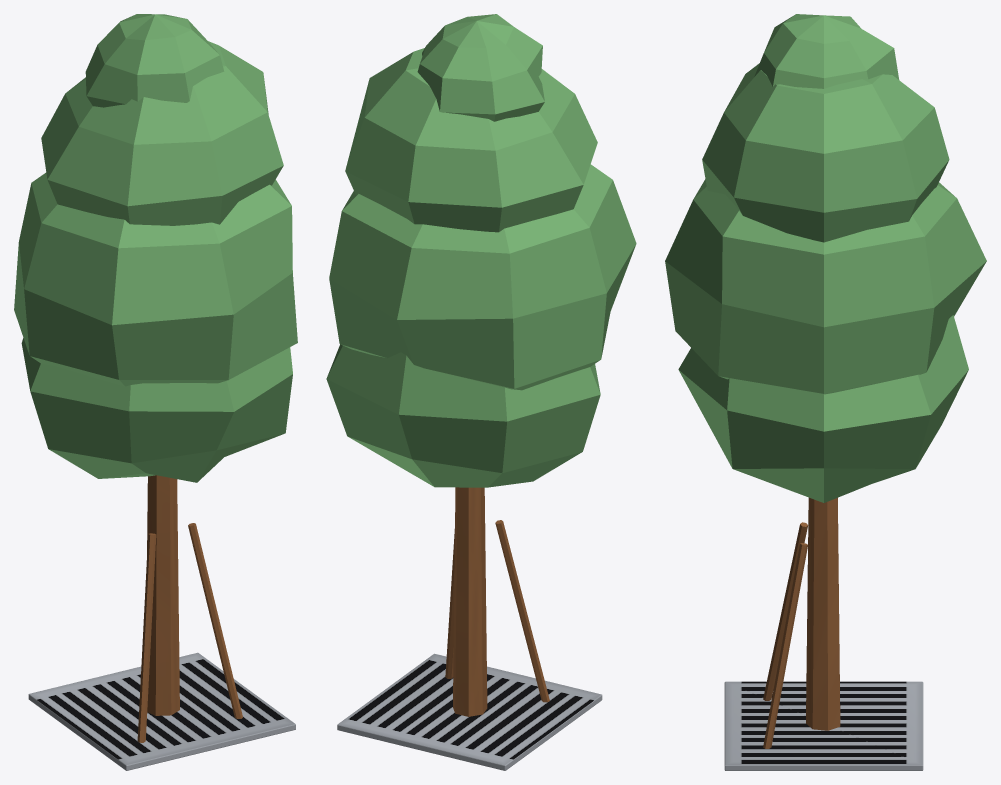
The model's file is Tree_C_lod.glb.
3 views of the same model, side by side, from view 1: azimuth 30°, elevation 25°; view 2: azimuth 150°, elevation 25°; view 3: azimuth 270°, elevation 25° (orthographic). The views are drawn at different scales.
Visible parts, largest first — view 1: Foliage, Trunk; view 2: Foliage, Trunk; view 3: Foliage, Trunk.
Part boxes in pixels (<box>): Foliage: <box>14,14,297,482</box>; Trunk: <box>28,475,295,770</box>; Foliage: <box>326,14,636,487</box>; Trunk: <box>337,487,602,770</box>; Foliage: <box>665,14,986,502</box>; Trunk: <box>724,497,923,770</box>.
Size of what is drawn, in the model's own units: 1.87 by 4.74 by 1.95.
Materials: 2 (1 with a texture image).
